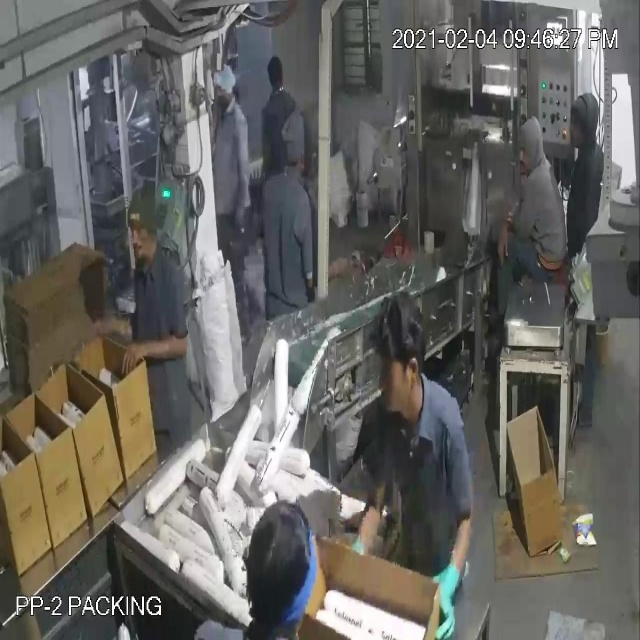Guantes: (421, 532, 469, 640)
Sin_guantes: (111, 322, 187, 386)
